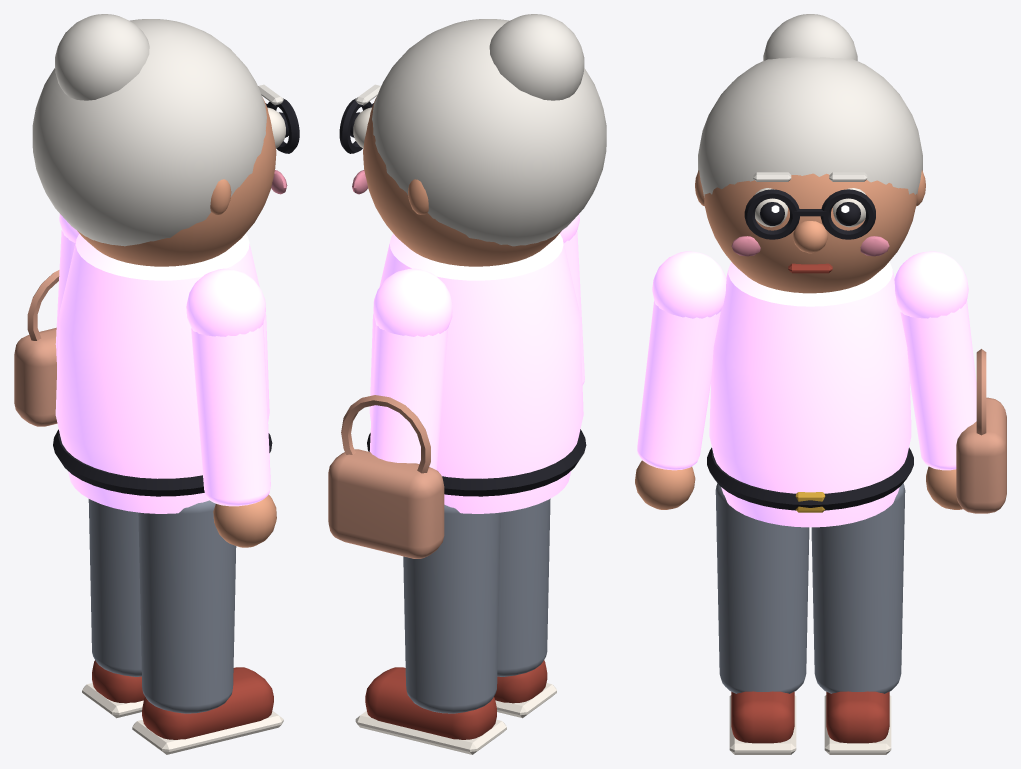
Rendered from ped_granny.glb.
3 renders of one model, left to right at view 1: azimuth 30°, elevation 25°; view 2: azimuth 150°, elevation 25°; view 3: azimuth 270°, elevation 25°, orthographic. The views are drawn at different scales.
Parts seen in each view (by area): view 1: ped_granny; view 2: ped_granny; view 3: ped_granny.
Part boxes in pixels (bbox=[...]): ped_granny: bbox=[14, 14, 299, 754]; ped_granny: bbox=[328, 14, 606, 754]; ped_granny: bbox=[635, 14, 1006, 754].
Bounding box in the file's own units: 0.475 × 1.43 × 0.7159.
Materials: 1 (1 with a texture image).
